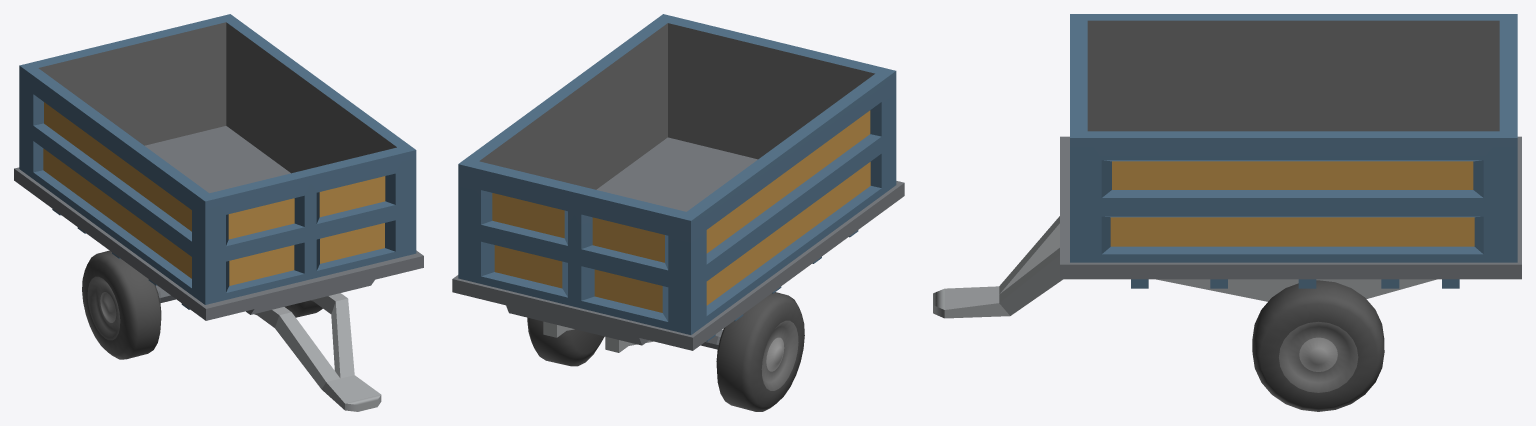
The model's file is BinCar.gltf.
The picture shows the model from 3 angles, left to right: view 1: azimuth 30°, elevation 25°; view 2: azimuth 150°, elevation 25°; view 3: azimuth 270°, elevation 25°; orthographic projection. The views are drawn at different scales.
Visible parts, largest first — view 1: body, wheel_1, wheel_3, wheel_0; view 2: body, wheel_1, wheel_0, wheel_3; view 3: body, wheel_0, wheel_2.
Boxes of the visible parts, x1,y1,x2,y2 form: body: [14, 14, 423, 411]; wheel_1: [82, 250, 161, 359]; wheel_3: [87, 276, 120, 340]; wheel_0: [284, 300, 322, 317]; body: [452, 14, 904, 371]; wheel_1: [716, 292, 804, 411]; wheel_0: [527, 317, 604, 366]; wheel_3: [761, 320, 798, 390]; body: [933, 14, 1521, 371]; wheel_0: [1252, 280, 1384, 411]; wheel_2: [1279, 321, 1358, 392].
Bounding box in the file's own units: 2.45 × 2.5 × 4.77.
Materials: 1 (1 with a texture image).
